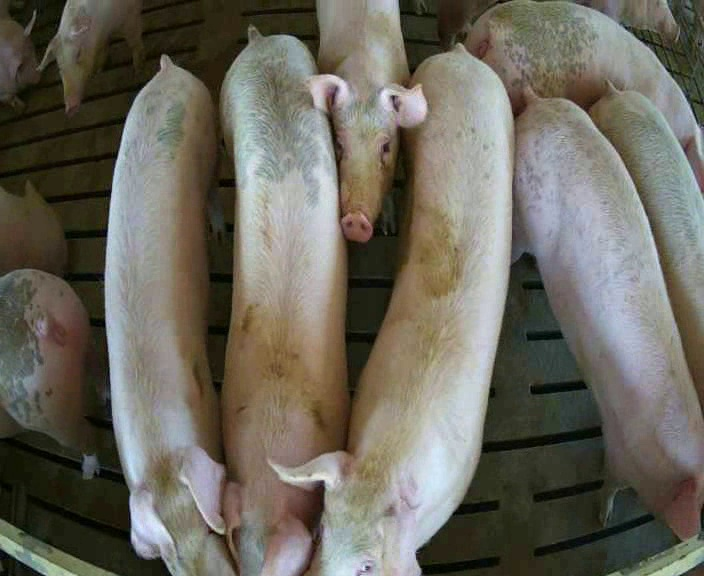pig: (272, 45, 512, 573), (511, 87, 703, 538), (221, 28, 345, 574), (105, 55, 232, 574), (465, 2, 703, 190), (590, 83, 703, 408), (310, 2, 426, 240), (38, 2, 143, 115)
